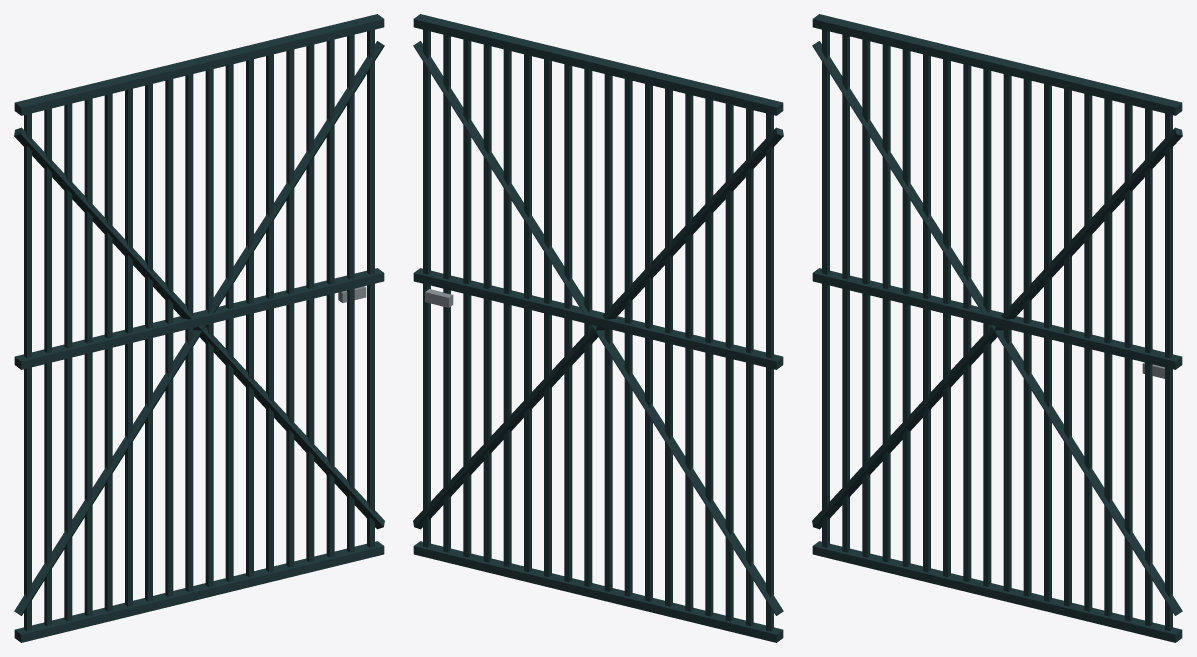
Rendered from bars_gate_leaf_XL.fbx.
3 views of the same model, side by side, from view 1: azimuth 30°, elevation 25°; view 2: azimuth 150°, elevation 25°; view 3: azimuth 330°, elevation 25° (orthographic).
Visible parts, largest first — view 1: bars_gate_leaf_XL; view 2: bars_gate_leaf_XL; view 3: bars_gate_leaf_XL.
Boxes of the visible parts, left/top/right/bottom form: bars_gate_leaf_XL: left=14, top=14, right=384, bottom=642; bars_gate_leaf_XL: left=413, top=14, right=783, bottom=642; bars_gate_leaf_XL: left=812, top=14, right=1182, bottom=642.
Size of the model in its own units: 2.9 by 4 by 0.12.
